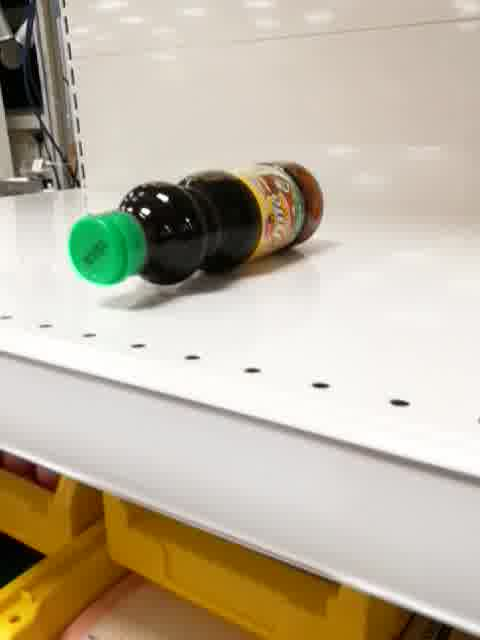cookingoil: (66, 157, 328, 290)
